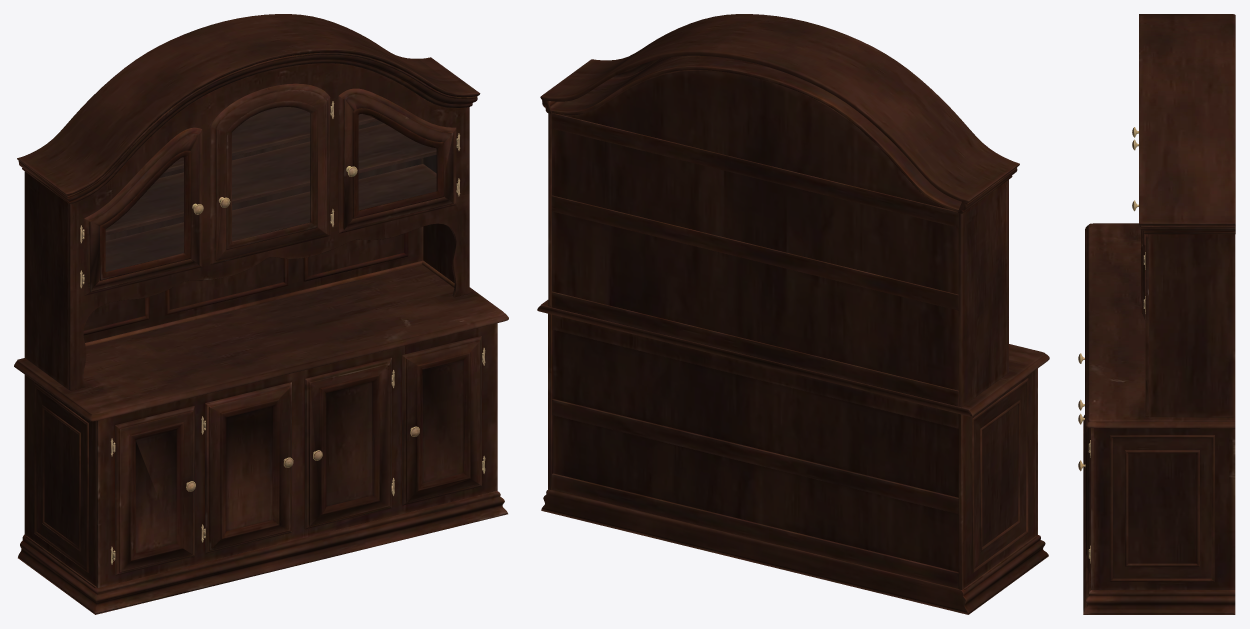
File: vintage_cabinet_01.glb
3 views of the same model, side by side, from view 1: azimuth 30°, elevation 25°; view 2: azimuth 150°, elevation 25°; view 3: azimuth 270°, elevation 25° (orthographic). The views are drawn at different scales.
Parts seen in each view (by area): view 1: vintage_cabinet_01_body, vintage_cabinet_01_door_01; view 2: vintage_cabinet_01_body; view 3: vintage_cabinet_01_body.
Boxes of the visible parts, box(x1,y1,x2,y2) form: vintage_cabinet_01_body: box(14, 14, 508, 614); vintage_cabinet_01_door_01: box(106, 107, 436, 271); vintage_cabinet_01_body: box(537, 14, 1049, 614); vintage_cabinet_01_body: box(1078, 14, 1235, 614).
Bounding box in the file's own units: 2.02 × 2.24 × 0.6699.
3 materials, 2 textured.
